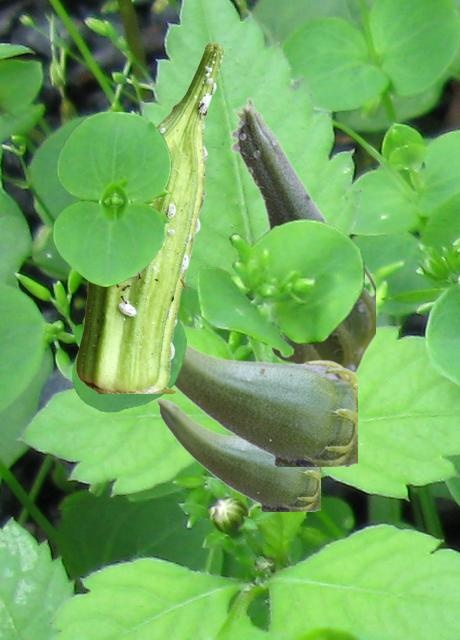okra: (76, 42, 223, 392), (229, 97, 374, 370), (174, 342, 356, 465), (156, 398, 319, 510)
